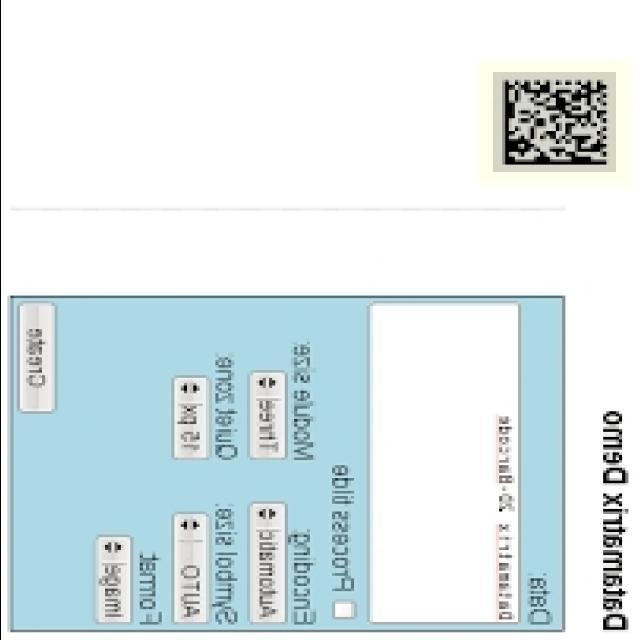Data-Matrix: (492, 72, 615, 172)
